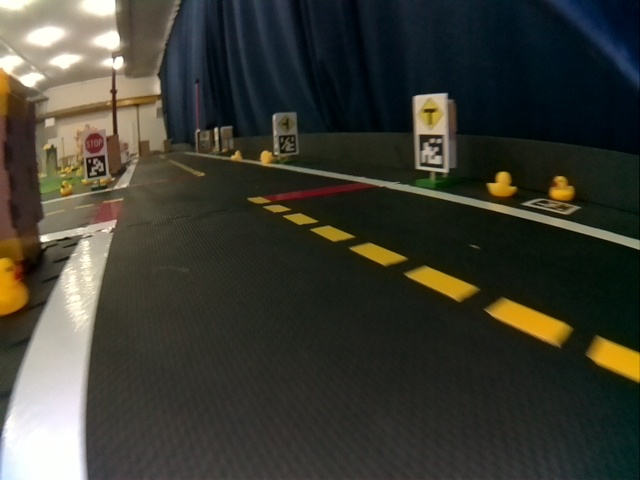Duckie: (1, 259, 27, 314), (550, 176, 574, 200), (488, 172, 511, 195), (260, 150, 273, 162), (60, 181, 71, 194), (231, 151, 241, 161)
Intersection sign: (414, 97, 444, 129), (276, 114, 295, 133)
QR code: (416, 133, 446, 171), (523, 198, 580, 215), (85, 156, 107, 180), (279, 135, 296, 154)
Stop sign: (84, 131, 106, 154)
